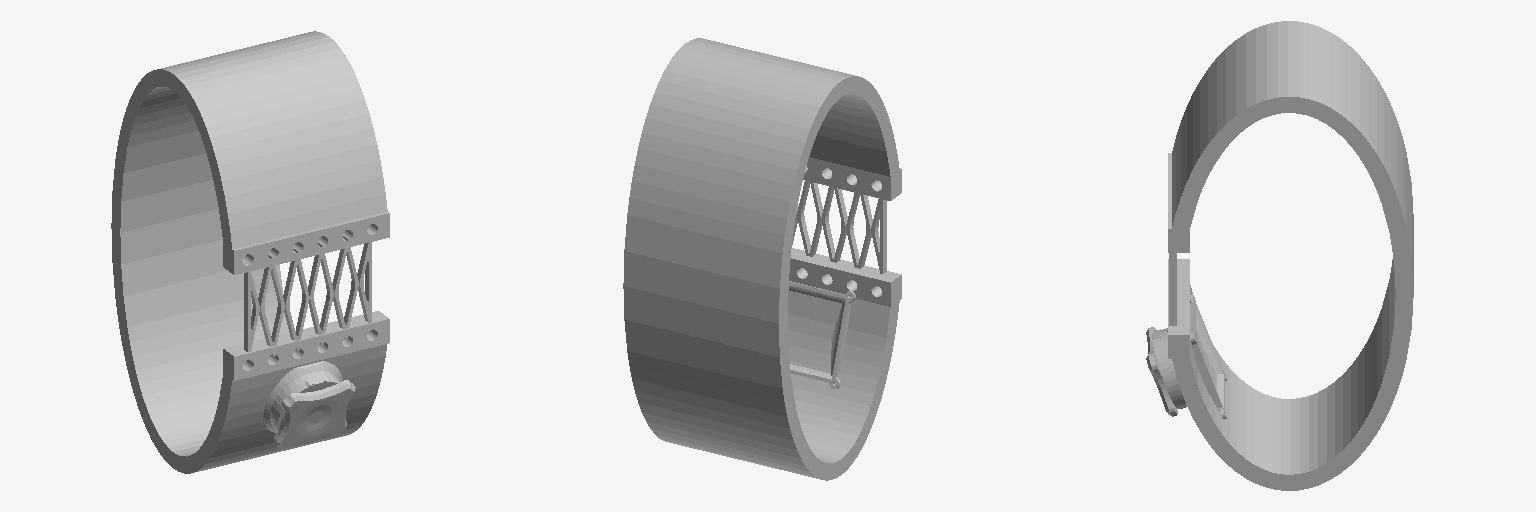
Rendered from UpliftV5v1.obj.
The picture shows the model from 3 angles: view 1: azimuth 30°, elevation 25°; view 2: azimuth 150°, elevation 25°; view 3: azimuth 270°, elevation 25°; orthographic projection.
Visible parts, largest first — view 1: Body10, Body6, Body8, Body9; view 2: Body10, Body8; view 3: Body10, Body8, Body6, Body9.
Boxes of the visible parts, x1,y1,x2,y2 form: Body10: [111, 31, 389, 473]; Body6: [273, 380, 355, 448]; Body8: [263, 361, 342, 432]; Body9: [273, 375, 339, 442]; Body10: [623, 38, 901, 480]; Body8: [789, 281, 855, 388]; Body10: [1168, 21, 1413, 490]; Body8: [1161, 294, 1226, 418]; Body6: [1146, 327, 1177, 416]; Body9: [1152, 329, 1186, 408].
Size of the model in its own units: 10 by 24.25 by 14.9.